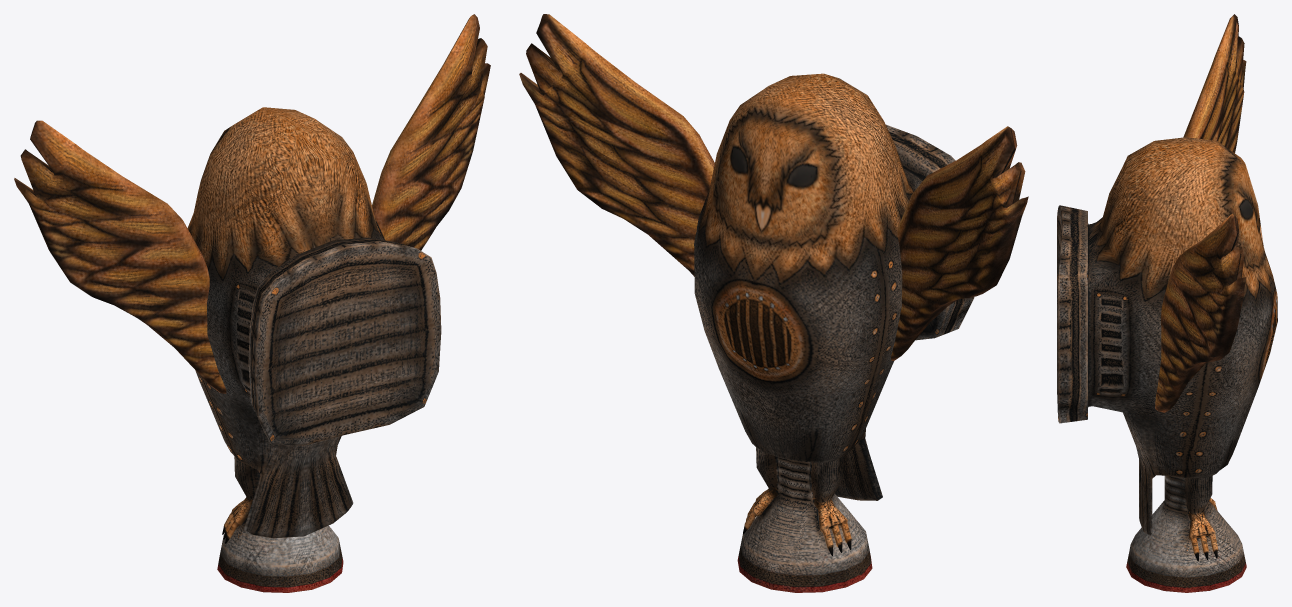
The model's file is BACK_CHIBI_OWL_JETPACK.fbx.
The picture shows the model from 3 angles, left to right: view 1: azimuth 30°, elevation 25°; view 2: azimuth 150°, elevation 25°; view 3: azimuth 270°, elevation 25°; orthographic projection. The views are drawn at different scales.
Parts seen in each view (by area): view 1: BACK_CHIBI_OWL_JETPACK; view 2: BACK_CHIBI_OWL_JETPACK; view 3: BACK_CHIBI_OWL_JETPACK.
Part boxes in pixels (x1=…): BACK_CHIBI_OWL_JETPACK: x1=14, y1=14, x2=490, y2=592; BACK_CHIBI_OWL_JETPACK: x1=519, y1=14, x2=1028, y2=592; BACK_CHIBI_OWL_JETPACK: x1=1057, y1=14, x2=1277, y2=592.
Bounding box in the file's own units: 0.0581 × 0.0561 × 0.0248.
